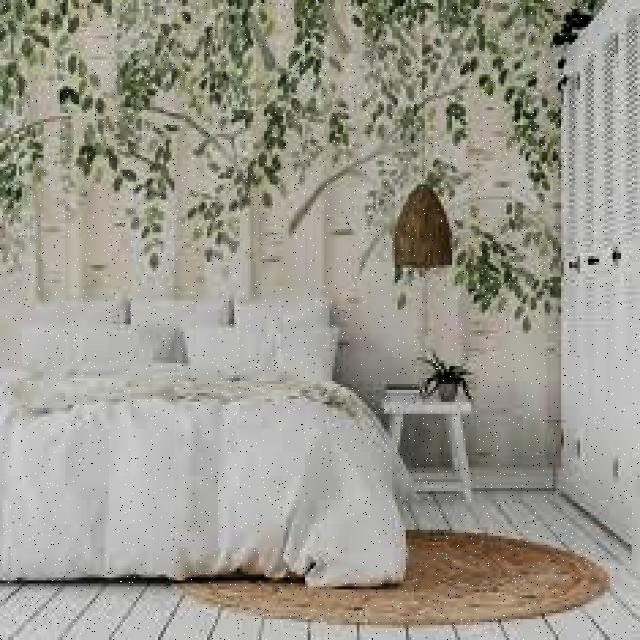bed: (0, 296, 372, 576)
